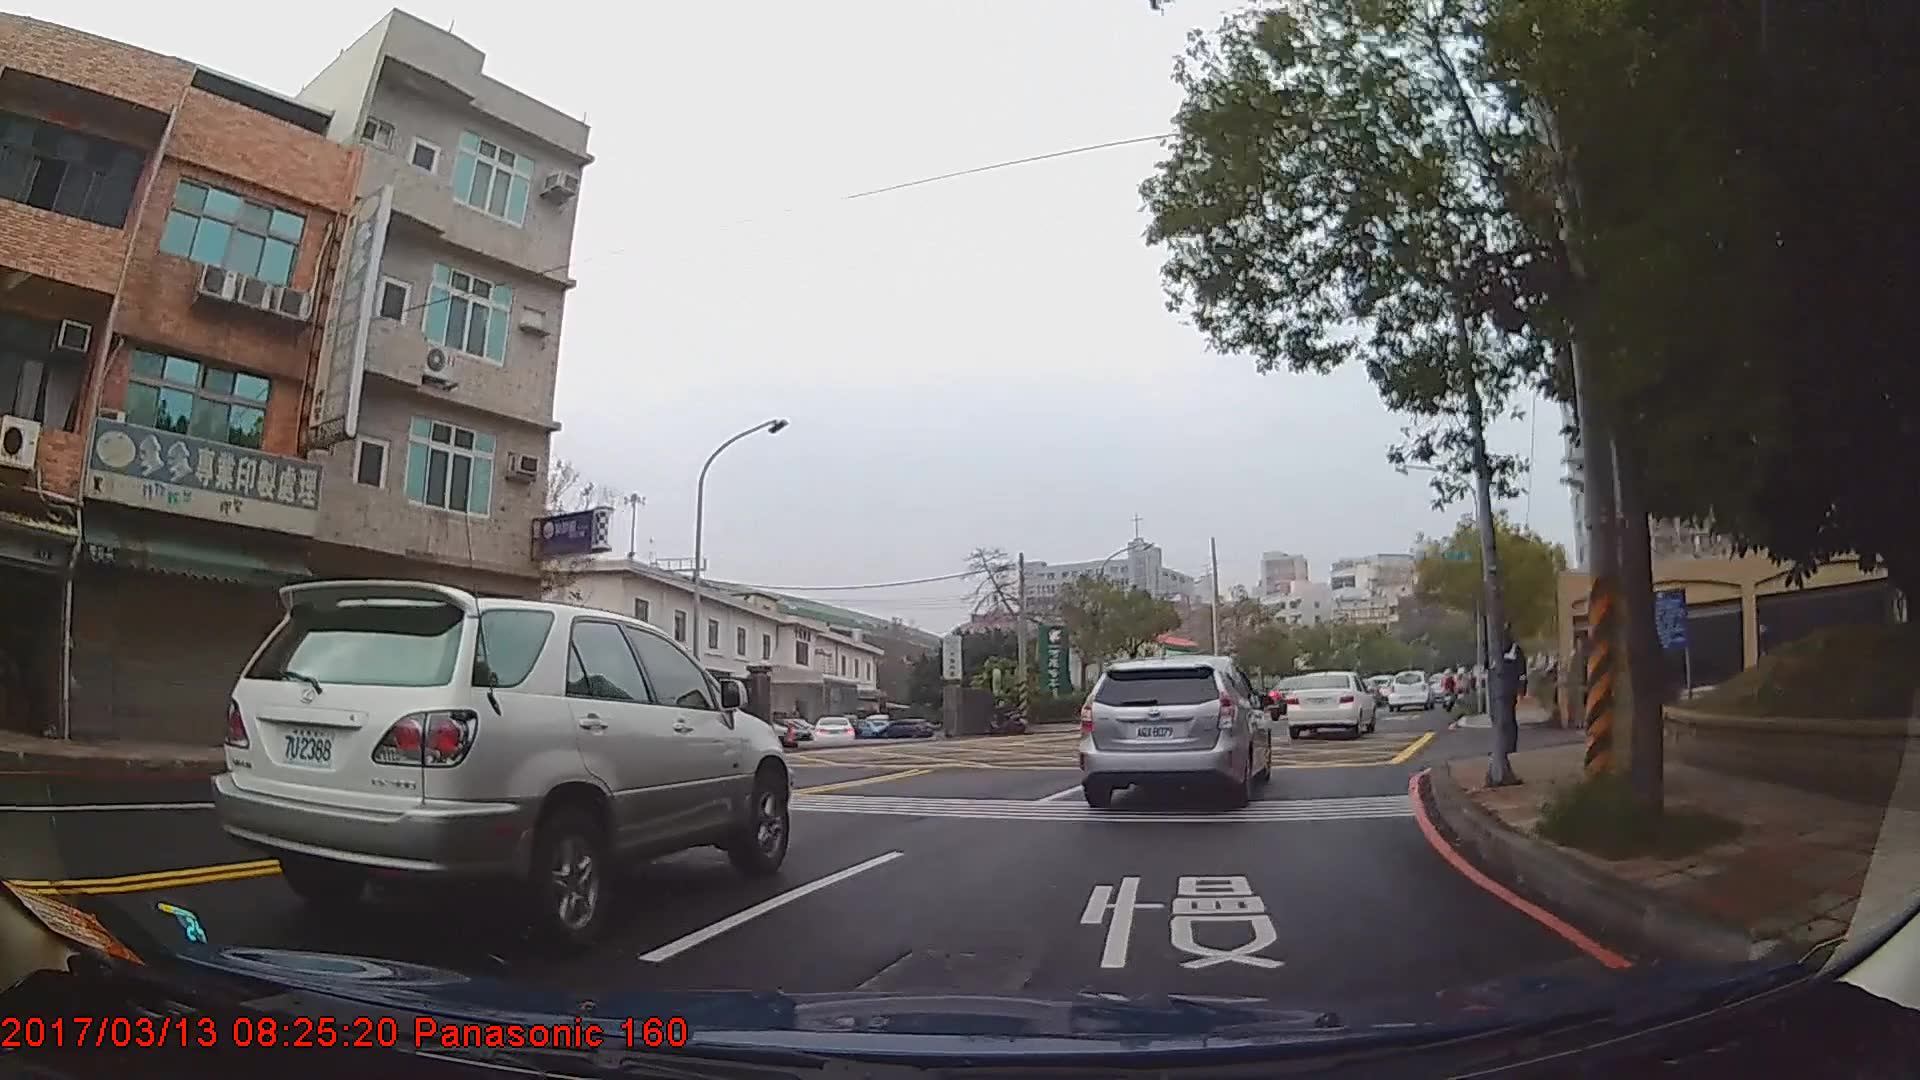pedestrian: (1486, 621, 1528, 754)
vehicle: (208, 577, 791, 943), (1076, 651, 1273, 811), (1283, 670, 1375, 736), (1384, 668, 1435, 711), (875, 718, 936, 740), (811, 715, 856, 744)
